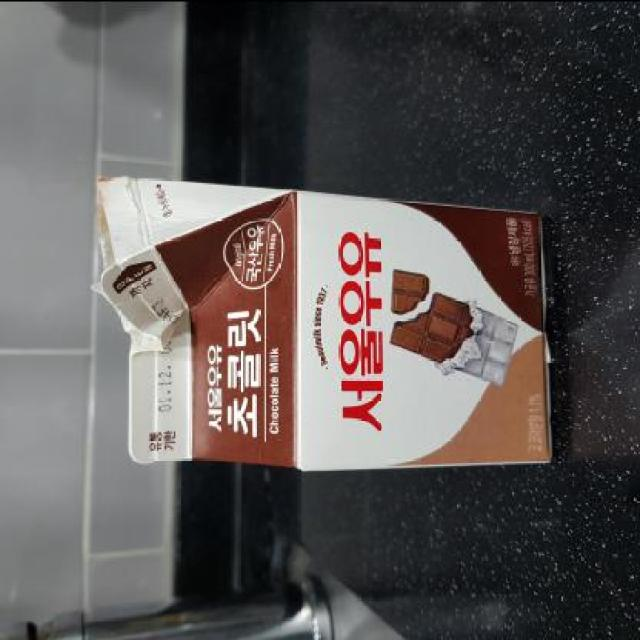non_white_jug: (83, 159, 565, 479)
